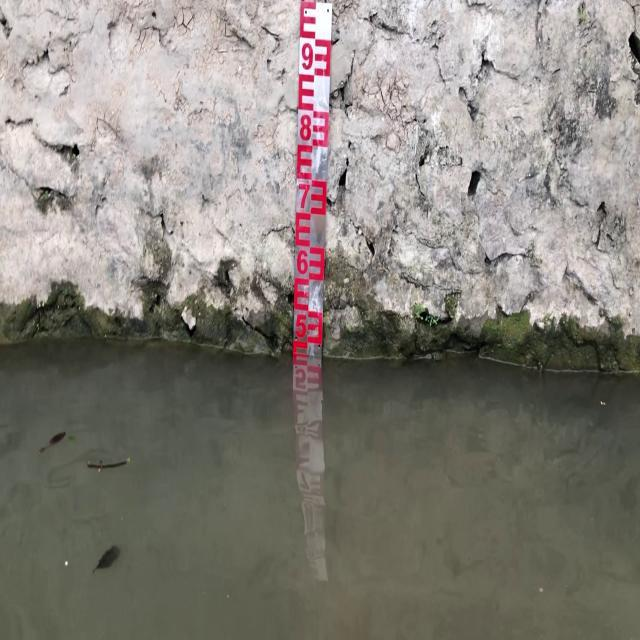ruler: (284, 0, 342, 360)
value: (298, 36, 316, 75), (296, 109, 312, 144), (293, 309, 308, 341), (296, 178, 310, 212), (294, 245, 308, 278)
